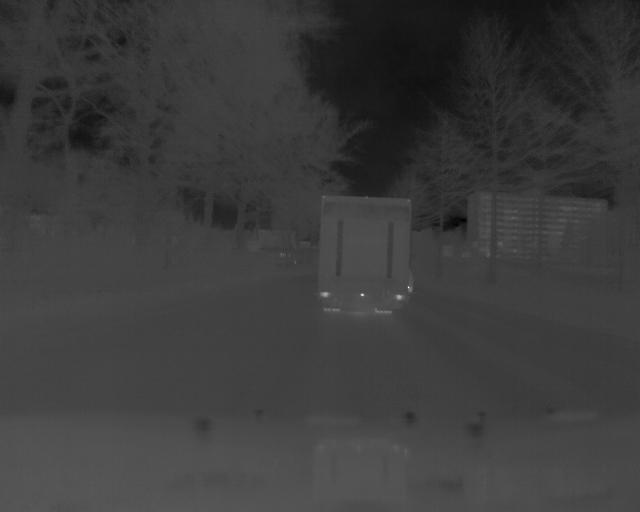car: (318, 190, 411, 321)
